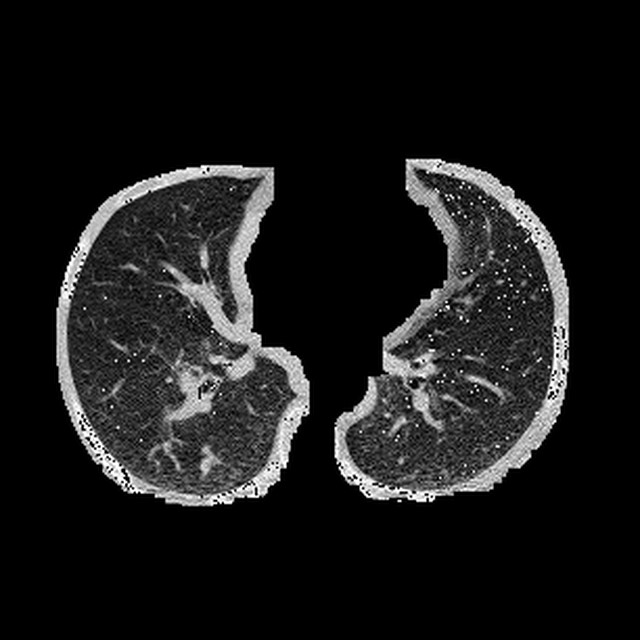PN: (201, 460, 209, 468)
